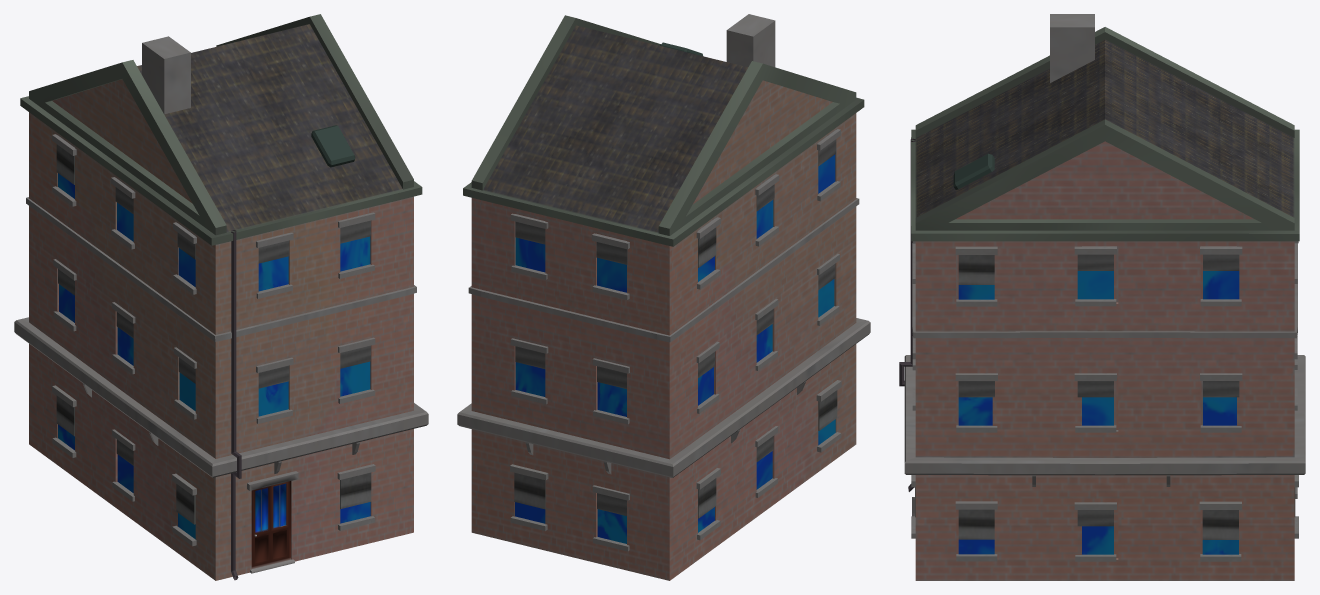
Rendered from standalone_house.gltf.
3 renders of one model, left to right at view 1: azimuth 30°, elevation 25°; view 2: azimuth 150°, elevation 25°; view 3: azimuth 270°, elevation 25°, orthographic.
Parts seen in each view (by area): view 1: Cube.002; view 2: Cube.002; view 3: Cube.002.
Boxes of the visible parts, x1=… form: Cube.002: x1=14, y1=14, x2=428, y2=580; Cube.002: x1=457, y1=14, x2=870, y2=580; Cube.002: x1=899, y1=14, x2=1305, y2=580.
Bounding box in the file's own units: 5.55 × 11.54 × 8.91.
Materials: 1 (1 with a texture image).
